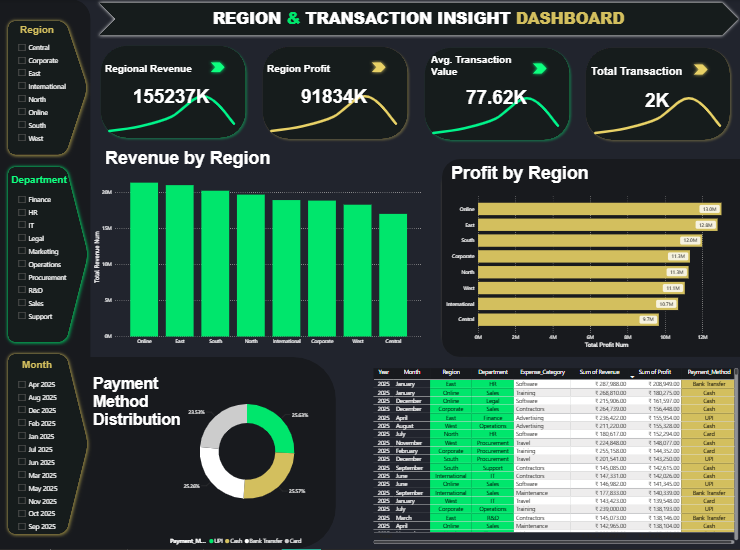

This screenshot's page, from the dashboard's own definition file:
{"tool":"powerbi","page":{"name":"Page 3","canvas":[1780,1320],"ordinal":2},"visuals":[{"type":"shape","box":[0,859.2,806.4,460.8],"z":0},{"type":"shape","box":[1397.2,108.5,364.4,239.5],"z":1000},{"type":"shape","box":[0,0,217.5,1320],"z":2000},{"type":"shape","box":[1056,393.6,76.8,465.6],"z":3000},{"type":"shape","box":[622.5,104.5,366.2,239.4],"z":4000},{"type":"shape","box":[1060.8,384,720,475.2],"z":5000},{"type":"clusteredBarChart","fields":{"Category":["finance_master.Region"],"Y":["finance_master.Total Profit Num"]},"box":[1058.4,460.8,722.4,381.6],"z":6000},{"type":"shape","box":[9.6,842.4,211.2,451.2],"z":7000},{"type":"shape","box":[1655.7,148.4,50.9,41.1],"z":8000},{"type":"shape","box":[10,42.5,210,340],"z":9000},{"type":"shape","box":[232.8,103.2,366.2,239.4],"z":10000},{"type":"shape","box":[9.6,393.6,211.2,439.2],"z":11000},{"type":"shape","box":[882.8,144.3,50.9,39.8],"z":12000},{"type":"slicer","fields":{"Values":["finance_master.Region"]},"box":[30,95,152.5,287.5],"z":13000},{"type":"shape","box":[496.4,143,50.9,39.8],"z":14000},{"type":"shape","box":[1009.7,108,366.2,239.4],"z":15000},{"type":"slicer","fields":{"Values":["finance_master.Department"]},"box":[31.2,460.8,151.2,343.2],"z":16000},{"type":"shape","box":[1270.6,147.1,50.9,41.1],"z":17000},{"type":"textbox","box":[0,55.2,177.6,40.8],"z":18000},{"type":"textbox","box":[1029.6,127.2,244.8,69.6],"z":19000},{"type":"textbox","box":[4.8,415.2,177.6,38.4],"z":20000},{"type":"textbox","box":[636.7,148.4,195.3,42.5],"z":21000},{"type":"textbox","box":[0,859.2,177.6,40.8],"z":22000},{"type":"textbox","box":[1413.6,153.6,242.4,40.8],"z":23000},{"type":"textbox","box":[247.2,352.8,588,62.4],"z":24000},{"type":"textbox","box":[247.2,148.8,247.2,40.8],"z":25000},{"type":"textbox","box":[218.4,880.8,276,189.6],"z":26000},{"type":"lineChart","fields":{"Category":["sales_trend.Year"],"Y":["Avg(sales_trend.Total_sales)"]},"box":[1413.8,221.4,329.2,119.7],"z":27000},{"type":"lineChart","fields":{"Category":["sales_trend.Year"],"Y":["Avg(sales_trend.Total_sales)"]},"box":[1024.1,220,329.2,119.7],"z":28000},{"type":"textbox","box":[1077.6,388.8,511.2,72],"z":29000},{"type":"lineChart","fields":{"Category":["sales_trend.Year"],"Y":["Avg(sales_trend.Total_sales)"]},"box":[636.9,216.6,329.2,119.7],"z":30000},{"type":"lineChart","fields":{"Category":["sales_trend.Year"],"Y":["Avg(sales_trend.Total_sales)"]},"box":[247.3,215.2,329.2,119.7],"z":31000},{"type":"shape","box":[227.2,0,1552.8,96],"z":32000},{"type":"card","fields":{"Values":["finance_master.Total Transactions"]},"box":[1430.4,187.2,292.8,105.6],"z":33000},{"type":"clusteredColumnChart","fields":{"Category":["finance_master.Region"],"Y":["finance_master.Total Revenue Num"]},"box":[218.4,415.2,799.2,424.8],"z":34000},{"type":"card","fields":{"Values":["finance_master.Avg Transaction Value"]},"box":[1008,180,367.2,108],"z":35000},{"type":"donutChart","fields":{"Category":["finance_master.Payment_Method"],"Y":["finance_master.Total Revenue Num"]},"box":[403.2,880.8,379.2,439.2],"z":36000},{"type":"card","fields":{"Values":["finance_master.Region Profit"]},"box":[636,177.6,331.2,105.6],"z":37000},{"type":"tableEx","fields":{"Values":["finance_master.Date.Variation.Date Hierarchy.Year","finance_master.Date.Variation.Date Hierarchy.Month","finance_master.Region","finance_master.Department","finance_master.Expense_Category","Sum(finance_master.Revenue)","Sum(finance_master.Profit)","finance_master.Payment_Method"]},"box":[890.4,880.8,885.6,432],"z":38000},{"type":"slicer","fields":{"Values":["finance_master.Month Name"]},"box":[31.2,904.8,151.2,415.2],"z":39000},{"type":"card","fields":{"Values":["finance_master.Region Revenue"]},"box":[235.2,177.6,350.4,105.6],"z":40000},{"type":"textbox","box":[227.2,14.4,1552.8,79.2],"z":40001}]}

Visuals, with their boxes in screenshot pixels (x1, y1, x2, y2), scaled from the page's 1780x1320 canvas onto the 740x550 screenshot:
shape: 0:358:335:549
shape: 581:45:732:145
shape: 0:0:90:549
shape: 439:164:471:358
shape: 259:44:411:143
shape: 441:160:739:358
clusteredBarChart - finance_master.Region x finance_master.Total Profit Num: 440:192:739:351
shape: 4:351:92:539
shape: 688:62:709:79
shape: 4:18:91:159
shape: 97:43:249:143
shape: 4:164:92:347
shape: 367:60:388:77
slicer - finance_master.Region: 12:40:76:159
shape: 206:60:228:76
shape: 420:45:572:145
slicer - finance_master.Department: 13:192:76:335
shape: 528:61:549:78
textbox: 0:23:74:40
textbox: 428:53:530:82
textbox: 2:173:76:189
textbox: 265:62:346:80
textbox: 0:358:74:375
textbox: 588:64:688:81
textbox: 103:147:347:173
textbox: 103:62:206:79
textbox: 91:367:206:446
lineChart - sales_trend.Year x Avg(sales_trend.Total_sales): 588:92:725:142
lineChart - sales_trend.Year x Avg(sales_trend.Total_sales): 426:92:563:142
textbox: 448:162:661:192
lineChart - sales_trend.Year x Avg(sales_trend.Total_sales): 265:90:402:140
lineChart - sales_trend.Year x Avg(sales_trend.Total_sales): 103:90:240:140
shape: 94:0:739:40
card - finance_master.Total Transactions: 595:78:716:122
clusteredColumnChart - finance_master.Region x finance_master.Total Revenue Num: 91:173:423:350
card - finance_master.Avg Transaction Value: 419:75:572:120
donutChart - finance_master.Payment_Method x finance_master.Total Revenue Num: 168:367:325:549
card - finance_master.Region Profit: 264:74:402:118
tableEx - finance_master.Date.Variation.Date Hierarchy.Year x finance_master.Date.Variation.Date Hierarchy.Month: 370:367:738:547
slicer - finance_master.Month Name: 13:377:76:549
card - finance_master.Region Revenue: 98:74:243:118
textbox: 94:6:739:39
